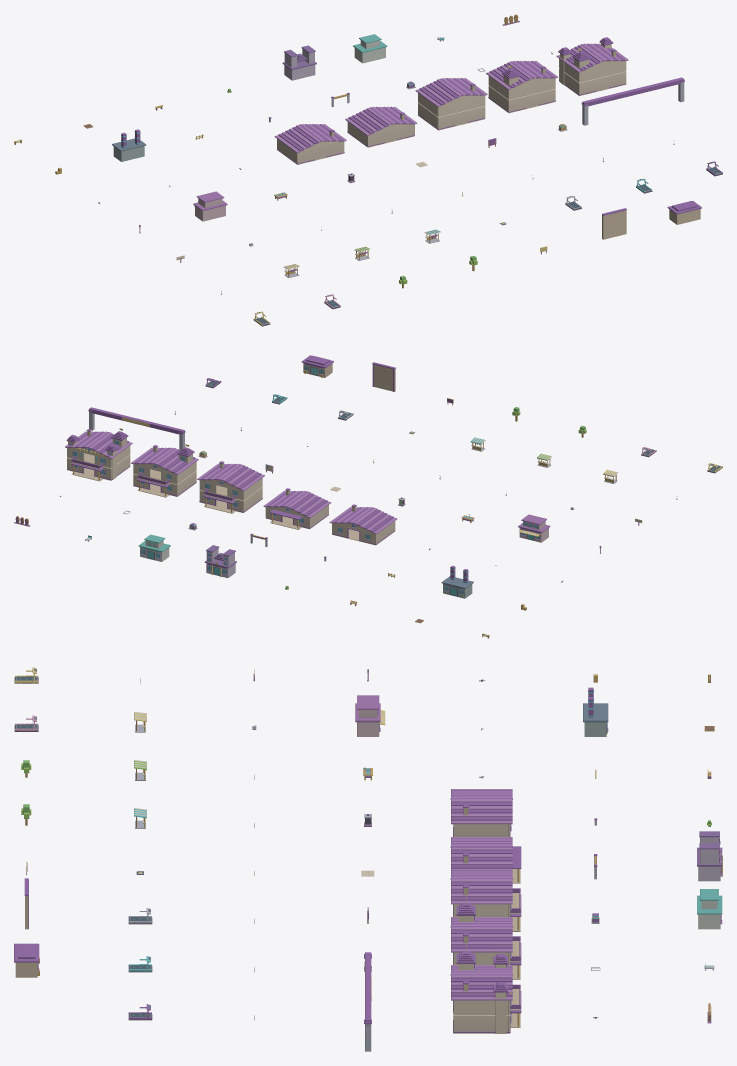
The model's file is GrowAZombie_WorldV3.glb.
3 renders of one model, top to bottom at view 1: azimuth 30°, elevation 25°; view 2: azimuth 150°, elevation 25°; view 3: azimuth 270°, elevation 25°, orthographic. The views are drawn at different scales.
Visible parts, largest first — view 1: V3_House2__Roof, V3_House1__Roof, V3_House3__Roof, V3_House4__Roof, V3_House3__Walls, V3_House4__Walls, V3_RoadArch__Main, V3_House5__Walls, V3_House5__Roof, V3_House1__Walls, V3_House2__Walls, V3_House3__Upper (+4 smaller); view 2: V3_House1__Roof, V3_House2__Roof, V3_House3__Roof, V3_House4__Roof, V3_House5__Roof, V3_RoadArch__Main, V3_House4__Upper, V3_House3__Upper, V3_House5__Upper, V3_House1__Walls, V3_Wall__Main, V3_House3__Walls (+4 smaller); view 3: V3_House1__Roof, V3_House3__Roof, V3_House4__Roof, V3_House2__Roof, V3_House5__Roof, V3_House5__Upper, V3_ChiefOffice__Roof, V3_House5__CastleTrim, V3_House5__Walls, V3_House1__Walls, V3_RoadArch__Main, V3_Mall__Roof (+3 smaller).
Part boxes in pixels (box(x1,y1,x2,y2)): V3_House2__Roof: box(345, 106, 417, 135); V3_House1__Roof: box(274, 124, 346, 152); V3_House3__Roof: box(415, 78, 487, 106); V3_House4__Roof: box(486, 60, 557, 89); V3_House3__Walls: box(418, 95, 485, 128); V3_House4__Walls: box(488, 78, 555, 111); V3_RoadArch__Main: box(581, 77, 684, 125); V3_House5__Walls: box(559, 61, 626, 94); V3_House5__Roof: box(556, 43, 628, 72); V3_House1__Walls: box(277, 139, 344, 163); V3_House2__Walls: box(347, 122, 414, 146); V3_House3__Upper: box(418, 93, 485, 116); V3_House1__Roof: box(329, 504, 397, 534); V3_House2__Roof: box(263, 488, 331, 518); V3_House3__Roof: box(197, 461, 264, 490); V3_House4__Roof: box(131, 445, 198, 474); V3_House5__Roof: box(65, 429, 132, 458); V3_RoadArch__Main: box(88, 407, 185, 450); V3_House4__Upper: box(133, 462, 196, 485); V3_House3__Upper: box(199, 478, 262, 501); V3_House5__Upper: box(67, 446, 130, 469); V3_House1__Walls: box(332, 521, 395, 543); V3_Wall__Main: box(372, 362, 395, 391); V3_House3__Walls: box(199, 480, 262, 511); V3_House1__Roof: box(450, 789, 512, 824); V3_House3__Roof: box(450, 869, 512, 904); V3_House4__Roof: box(450, 917, 512, 952); V3_House2__Roof: box(450, 837, 512, 868); V3_House5__Roof: box(450, 965, 512, 1000); V3_House5__Upper: box(453, 989, 520, 1014); V3_ChiefOffice__Roof: box(697, 831, 722, 866); V3_House5__CastleTrim: box(493, 954, 511, 1033); V3_House5__Walls: box(453, 1015, 510, 1031); V3_House1__Walls: box(453, 824, 510, 836); V3_RoadArch__Main: box(364, 952, 371, 1051); V3_Mall__Roof: box(355, 695, 380, 722).
Size of the model in its own units: 560 by 44.87 by 449.
